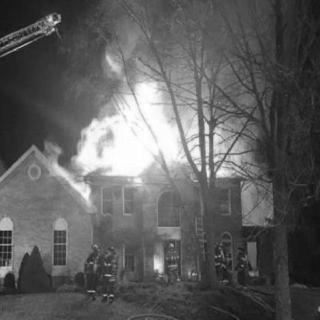Fire: (84, 86, 234, 178)
